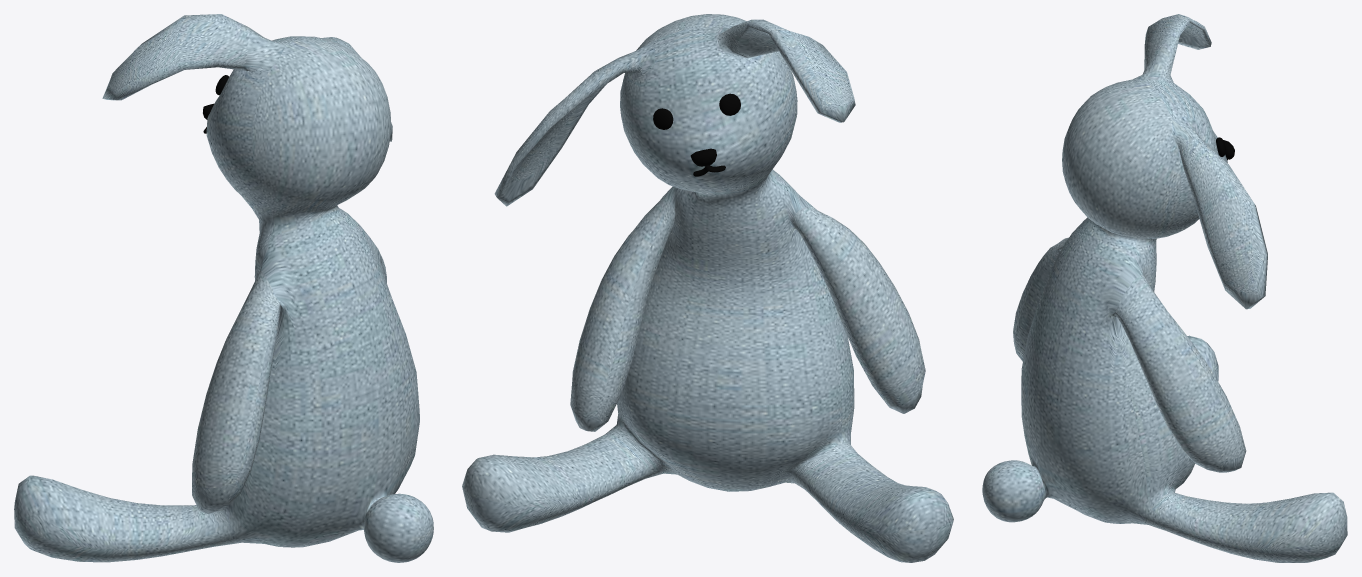
File: toyBunny.obj
3 views of the same model, side by side, from view 1: azimuth 30°, elevation 25°; view 2: azimuth 150°, elevation 25°; view 3: azimuth 270°, elevation 25° (orthographic). The views are drawn at different scales.
Visible parts, largest first — view 1: Bunny_Soft_Toy.001; view 2: Bunny_Soft_Toy.001; view 3: Bunny_Soft_Toy.001.
Boxes of the visible parts, x1,y1,x2,y2 form: Bunny_Soft_Toy.001: (14,14,433,562); Bunny_Soft_Toy.001: (462,14,953,562); Bunny_Soft_Toy.001: (982,14,1347,562).
Bounding box in the file's own units: 29.87 × 35.09 × 25.35.
2 materials, 1 textured.
